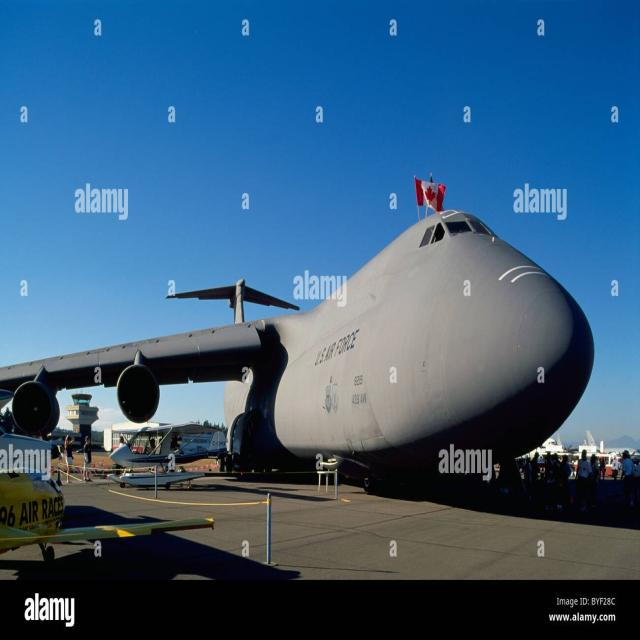C5: (0, 119, 621, 507)
